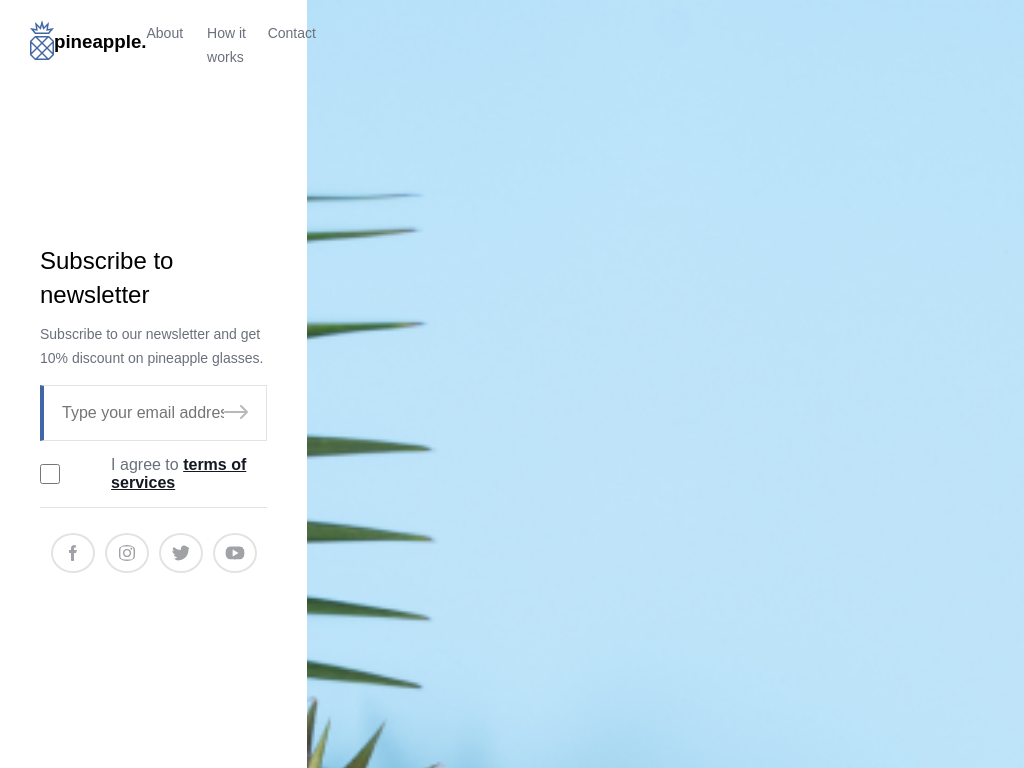
Test: has empty email validation
Type "test" into the field at (143,413), box [62,404,224,422]
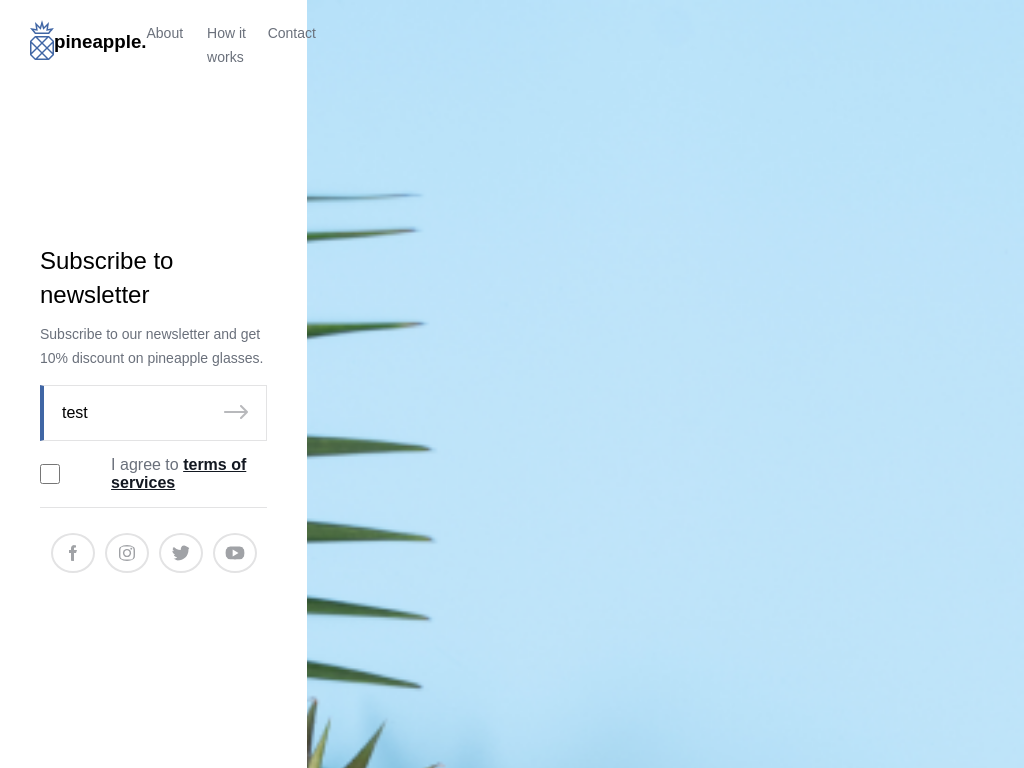
Clear the field at (143,413), box [62,404,224,422]
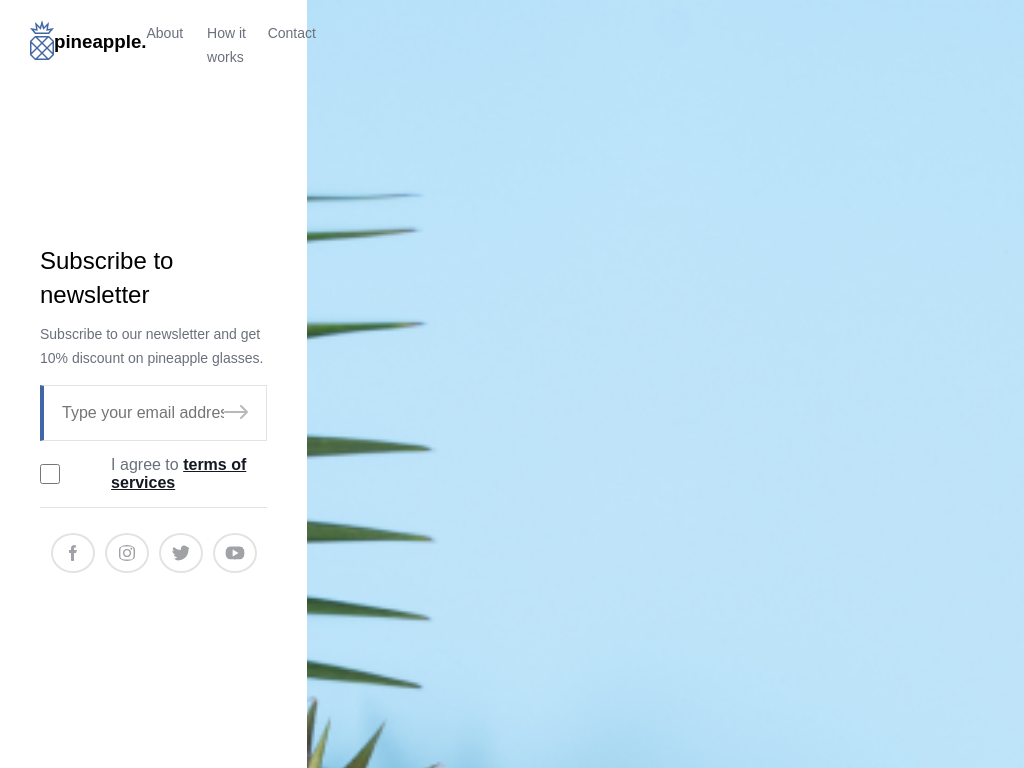
Submit the form from the field, box [62,404,224,422]
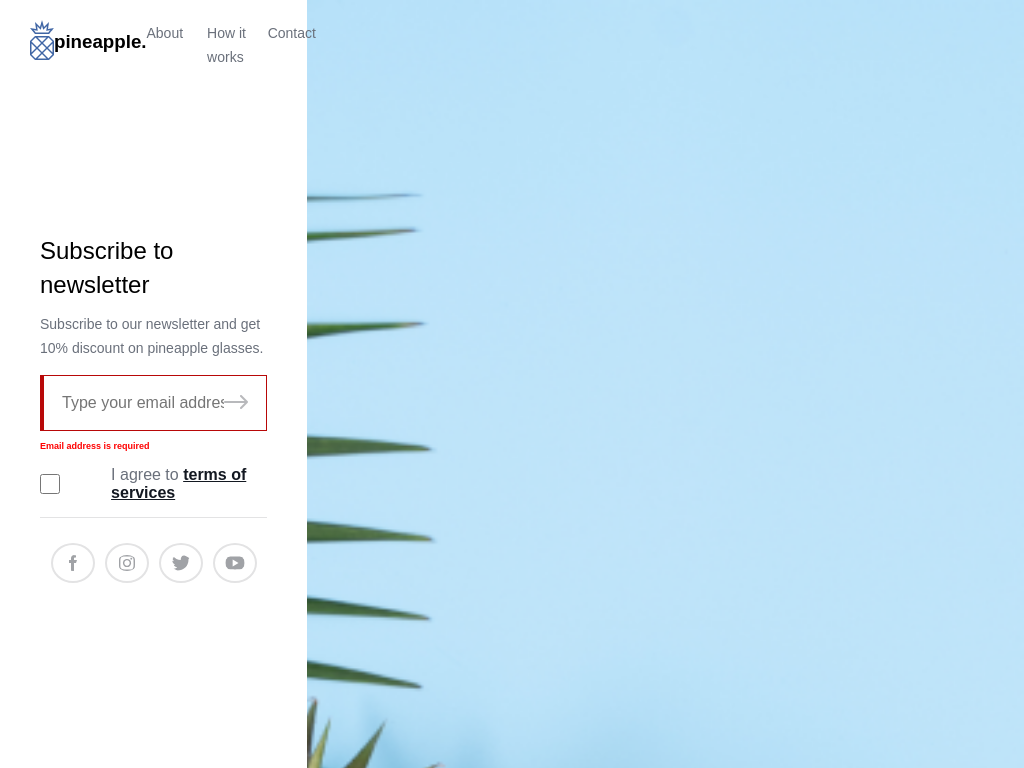
Check: the heading "Email address is required" is shown, box [40,441,150,451]
